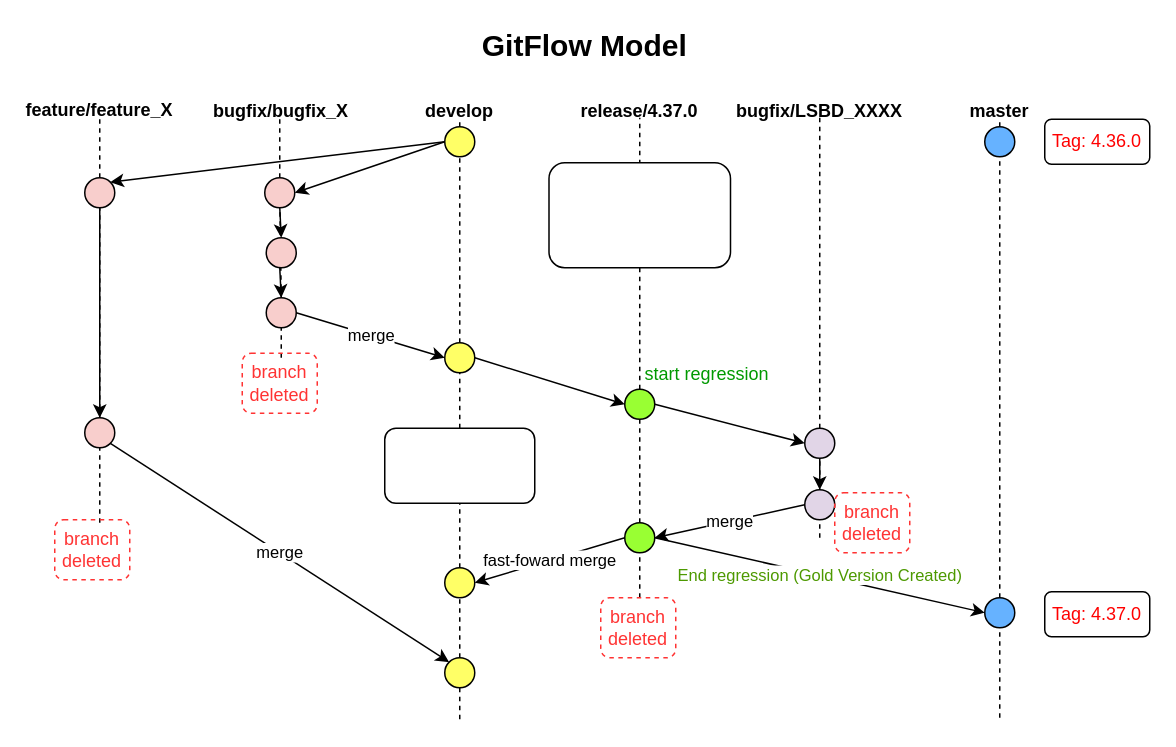
Image size: 1176x747. Some labels were removed from this diagram. The shapes that lost their labels are listed below. From the top down, each one's centre as x and y in pixels, then its label:
At pixel 639 214: "Only bugfixes branches for important bugs are merged to release branch".
At pixel 459 465: "Develop branch is blocked during regression".
